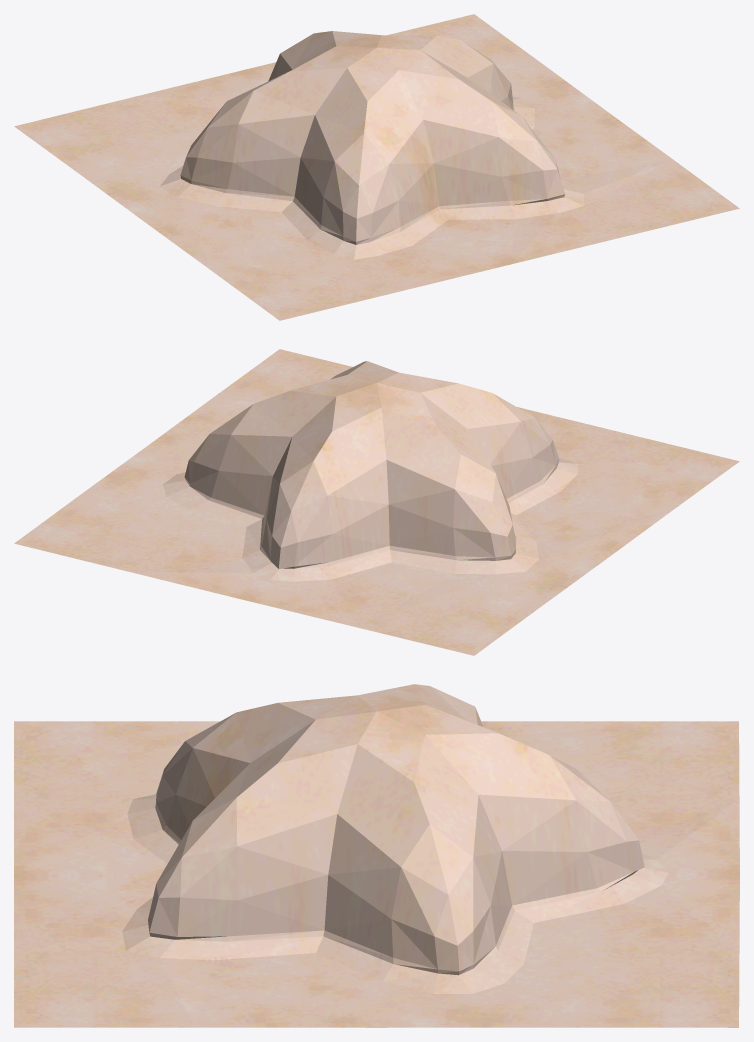
The model's file is sandbombbasestar.dae.
The picture shows the model from 3 angles, top to bottom: view 1: azimuth 30°, elevation 25°; view 2: azimuth 150°, elevation 25°; view 3: azimuth 270°, elevation 25°; orthographic projection. The views are drawn at different scales.
Parts seen in each view (by area): view 1: m0; view 2: m0; view 3: m0.
Boxes of the visible parts, <box> form: m0: <box>14,14,739,320</box>; m0: <box>14,349,739,655</box>; m0: <box>14,684,739,1027</box>.
Size of the model in its own units: 1942 by 482 by 1945.
Materials: 1 (1 with a texture image).
